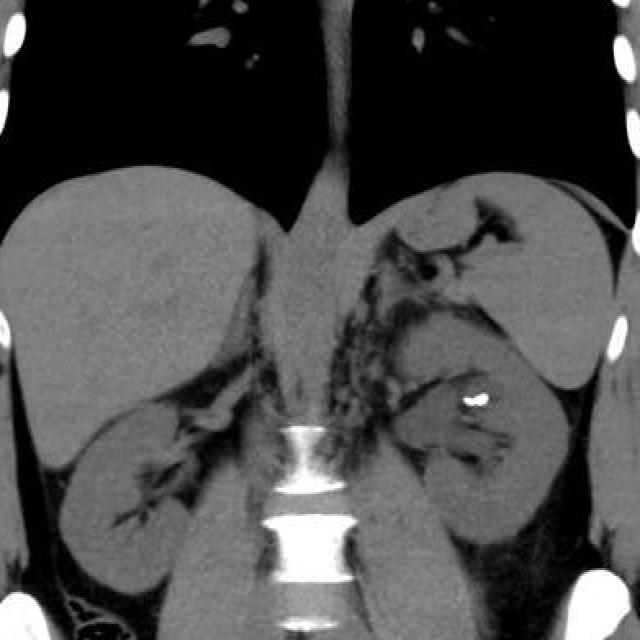Tas_Var: (475, 392, 491, 408), (461, 395, 474, 409)
